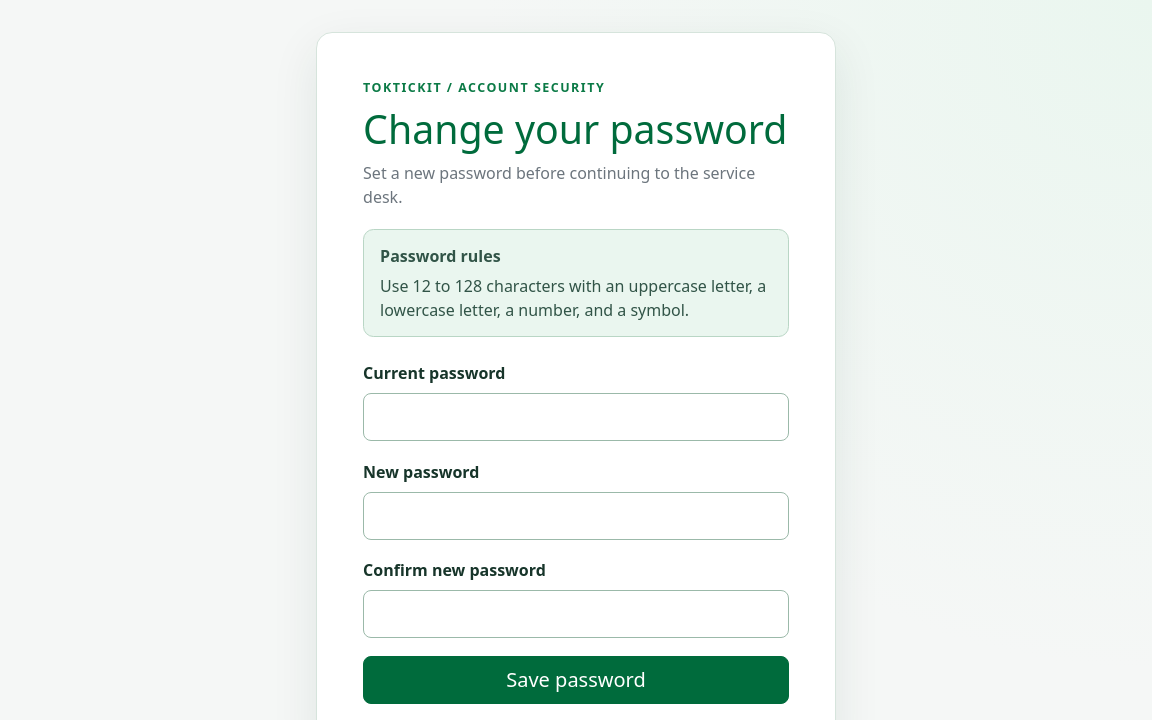
Test: Lab 3 Change Password screen › changes the password and continues to the authenticated Requester destination
Check: the heading "Change your password" is shown, box [363, 106, 789, 153]
In the password field labelled "Current password": (576, 417) [363, 393, 789, 441], type "Initial-password1!"
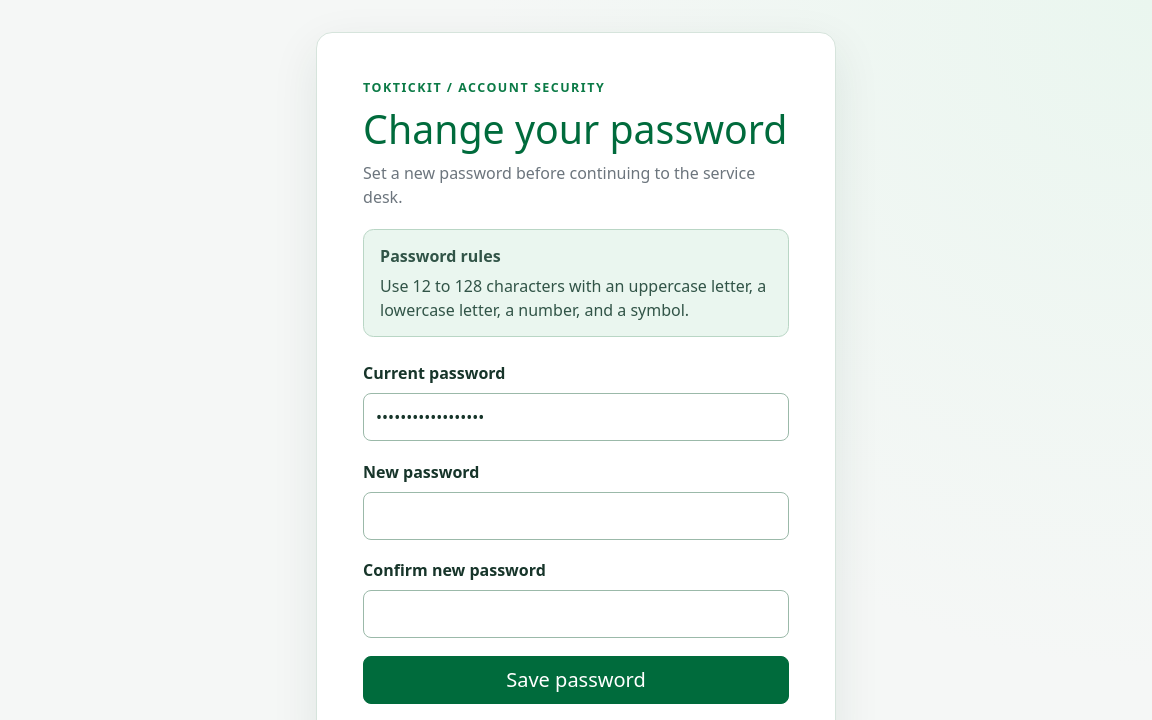
In the password field labelled "New password": (576, 516) [363, 492, 789, 540], type "New-strong-password1!"
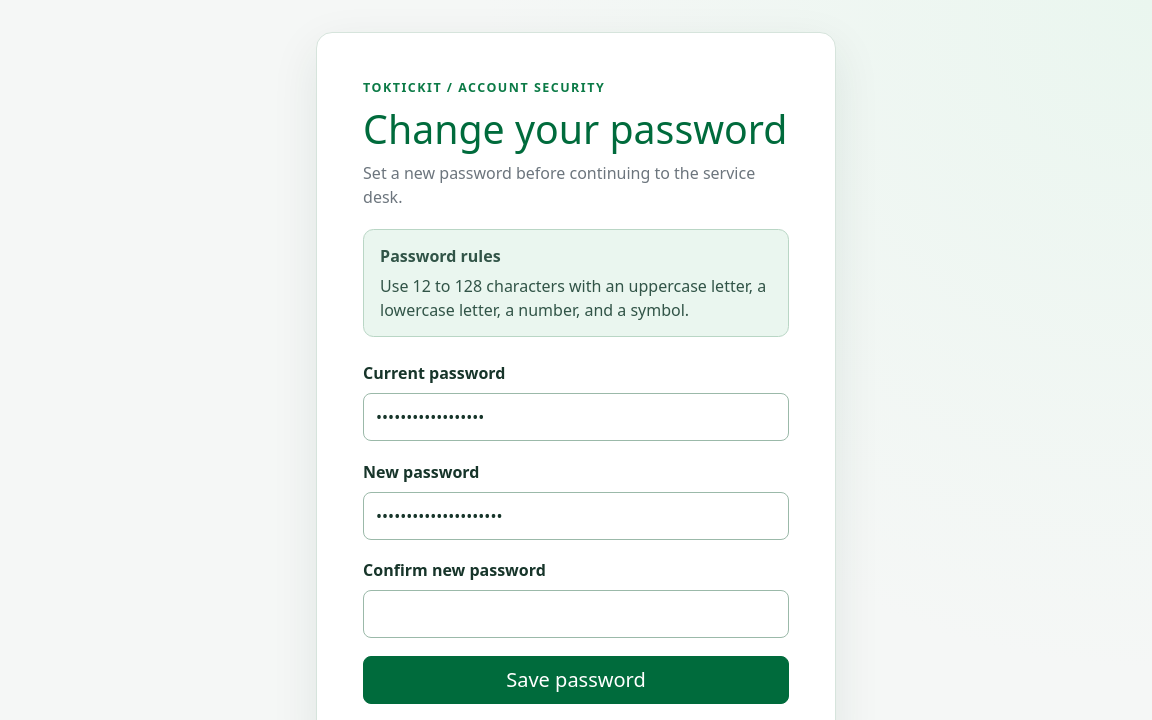
In the password field labelled "Confirm new password": (576, 614) [363, 590, 789, 638], type "New-strong-password1!"
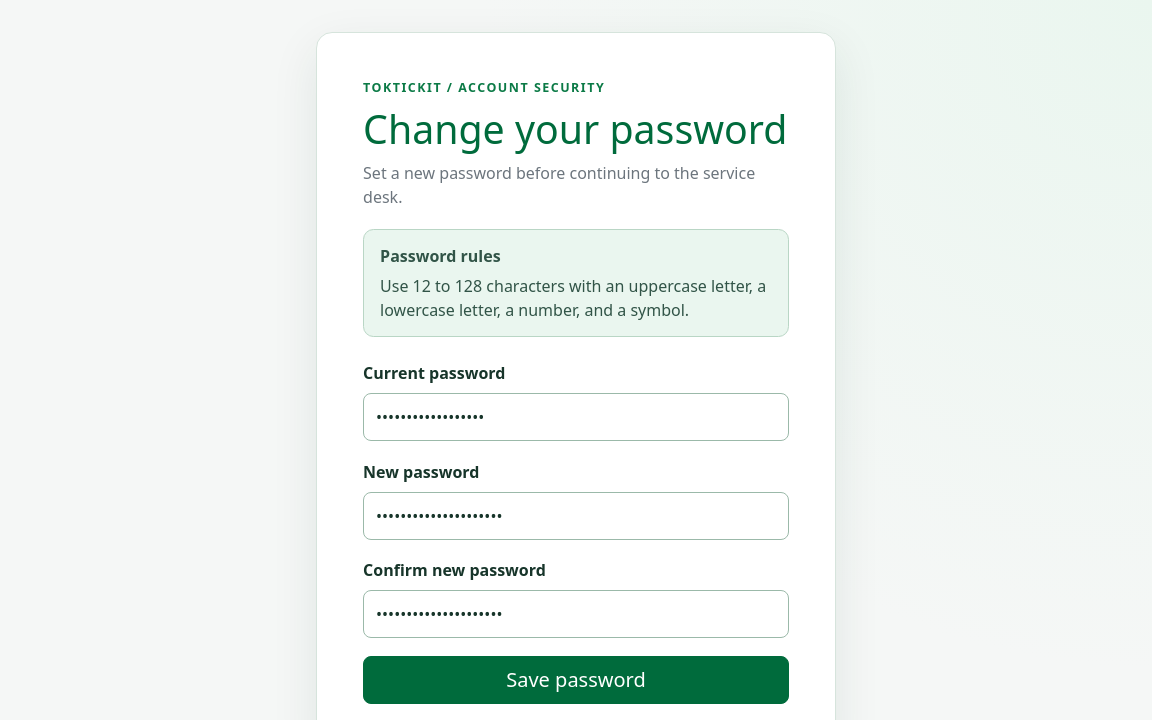
Click the button "Save password": (576, 680) [363, 656, 789, 704]
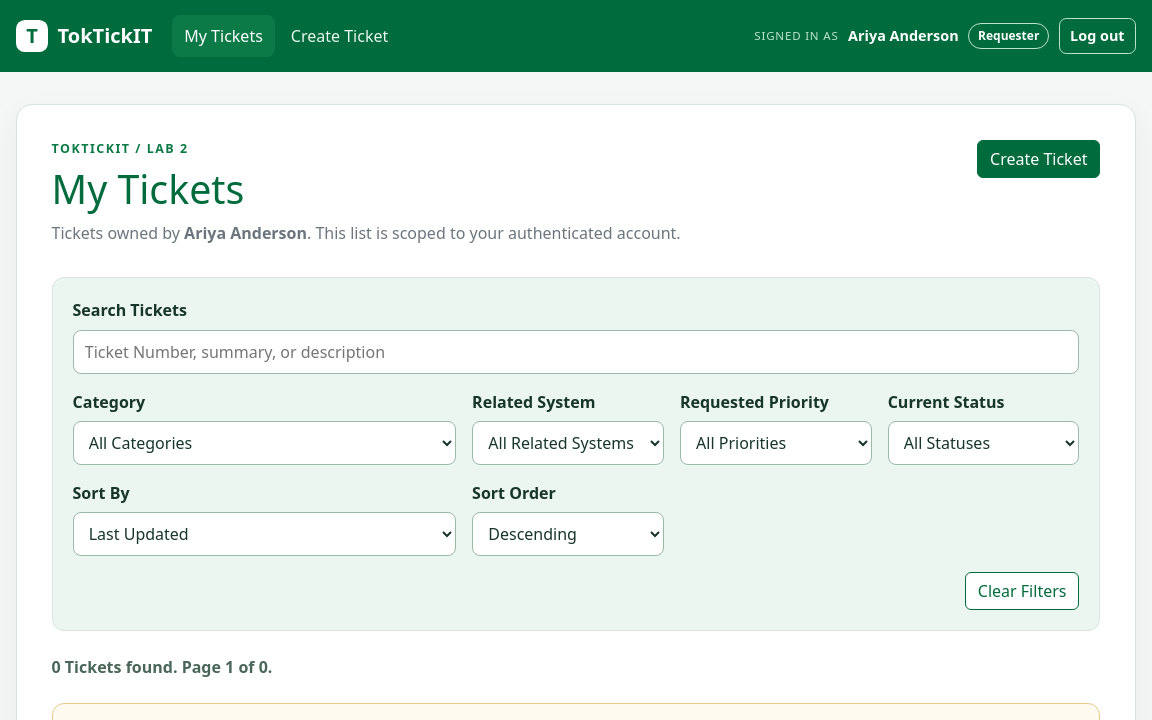
Check: the heading "My Tickets" is shown, box [52, 162, 244, 216]
